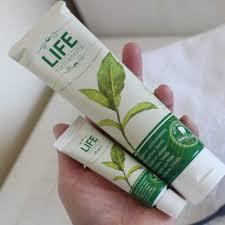toothpaste: (8, 0, 225, 203)
